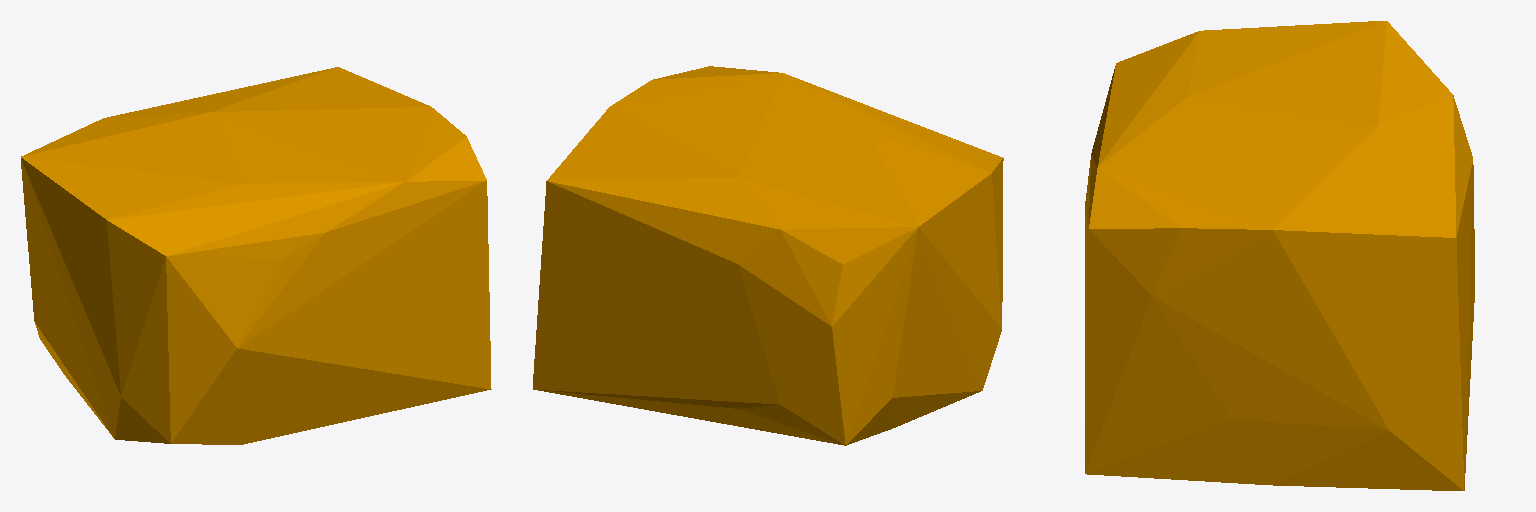
robot.urdf — 9_401:
<?xml version="1.0"?>
<robot name="9_401">
  <link name="link">
    <contact>
      <lateral_friction value="0.6"/>
    </contact>
    <inertial>
      <mass value = "0.042613745118483974"/>
      <inertia ixx="3.820958662621266e-06" ixy="-2.040959125120377e-08" ixz="-5.935248607986103e-08" iyy="5.112999522823668e-06" iyz="-1.3189191526514874e-08" izz="5.8727675546728615e-06" />
    </inertial>
    <visual name="visual">
      <geometry>
        <mesh filename="9_401.obj"/>
      </geometry>
    </visual>
    <collision name="collision">
      <geometry>
        <mesh filename="9_401.obj"/>
      </geometry>
    </collision>
  </link>
</robot>

--- Render facts (derived) ---
The picture shows the robot from 3 angles, left to right: view 1: azimuth 30°, elevation 25°; view 2: azimuth 150°, elevation 25°; view 3: azimuth 270°, elevation 25°; orthographic projection.
Model 9_401 with 1 links and 0 joints (none), rooted at link, posed all joints at 0.
Links seen in each view (by area): view 1: link; view 2: link; view 3: link.
Link boxes in pixels (<box>): link: <box>21,67,491,444</box>; link: <box>533,66,1003,445</box>; link: <box>1085,21,1474,490</box>.
Size in the robot's own frame: 0.0345 by 0.0275 by 0.0225 metres.
1 mesh visuals loaded from 1 distinct referenced files (1 OBJ).
